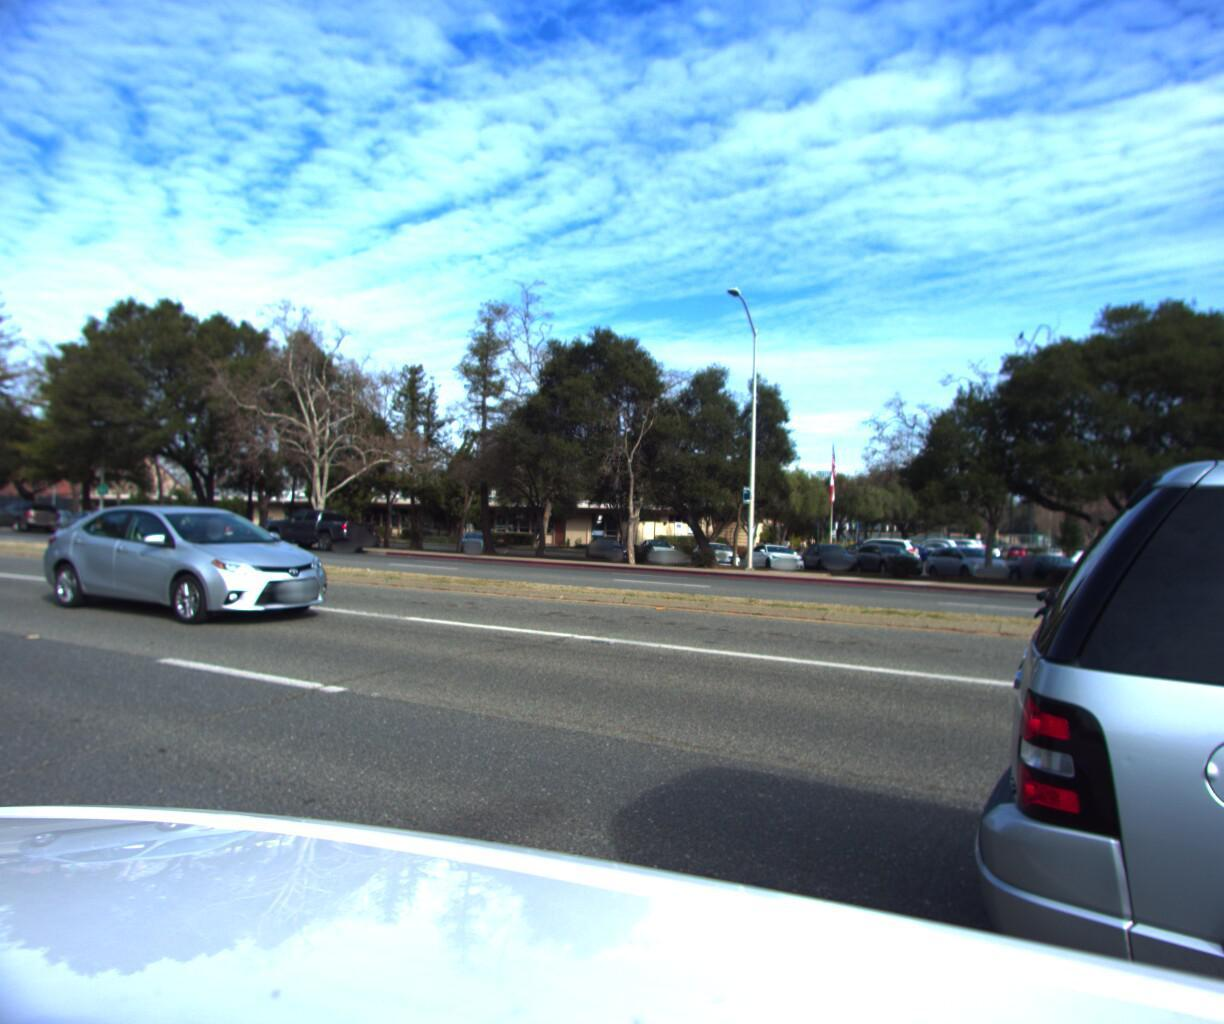car: (30, 498, 356, 630), (259, 509, 383, 559), (49, 513, 129, 541)
